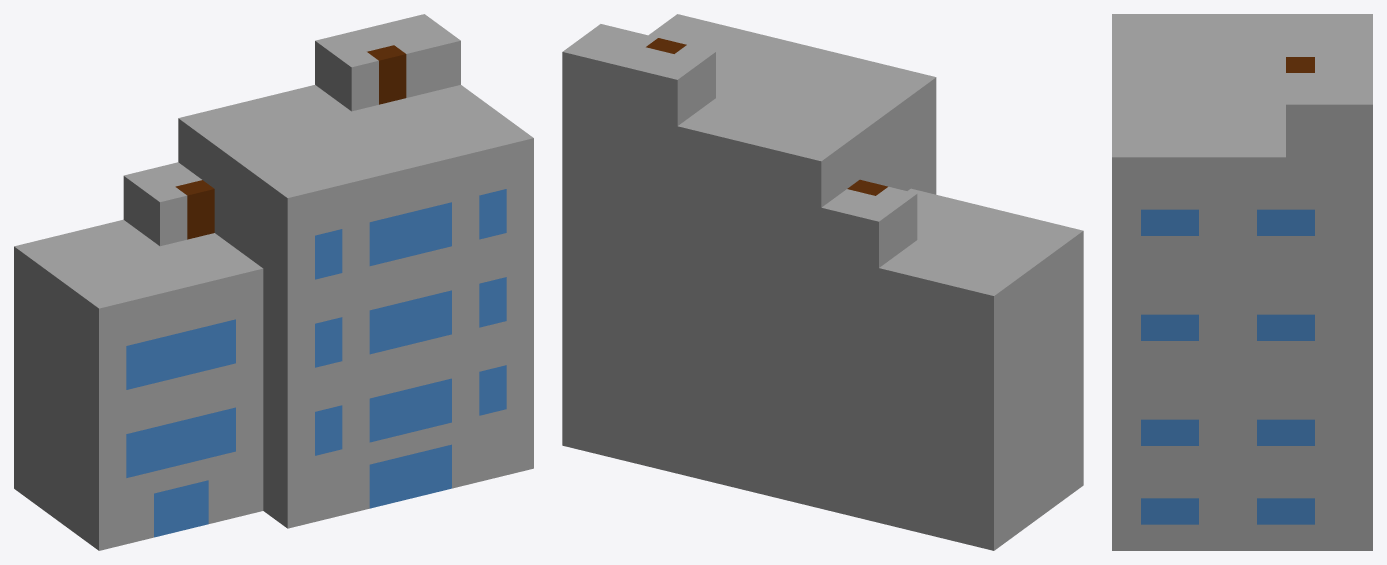
The model's file is Bill.fbx.
3 views of the same model, side by side, from view 1: azimuth 30°, elevation 25°; view 2: azimuth 150°, elevation 25°; view 3: azimuth 270°, elevation 25° (orthographic). The views are drawn at different scales.
Visible parts, largest first — view 1: Bill; view 2: Bill; view 3: Bill.
Boxes of the visible parts, <box> form: Bill: <box>14,14,533,550</box>; Bill: <box>562,14,1083,550</box>; Bill: <box>1112,14,1372,550</box>.
Size of the model in its own units: 0.195 by 0.17 by 0.09.
